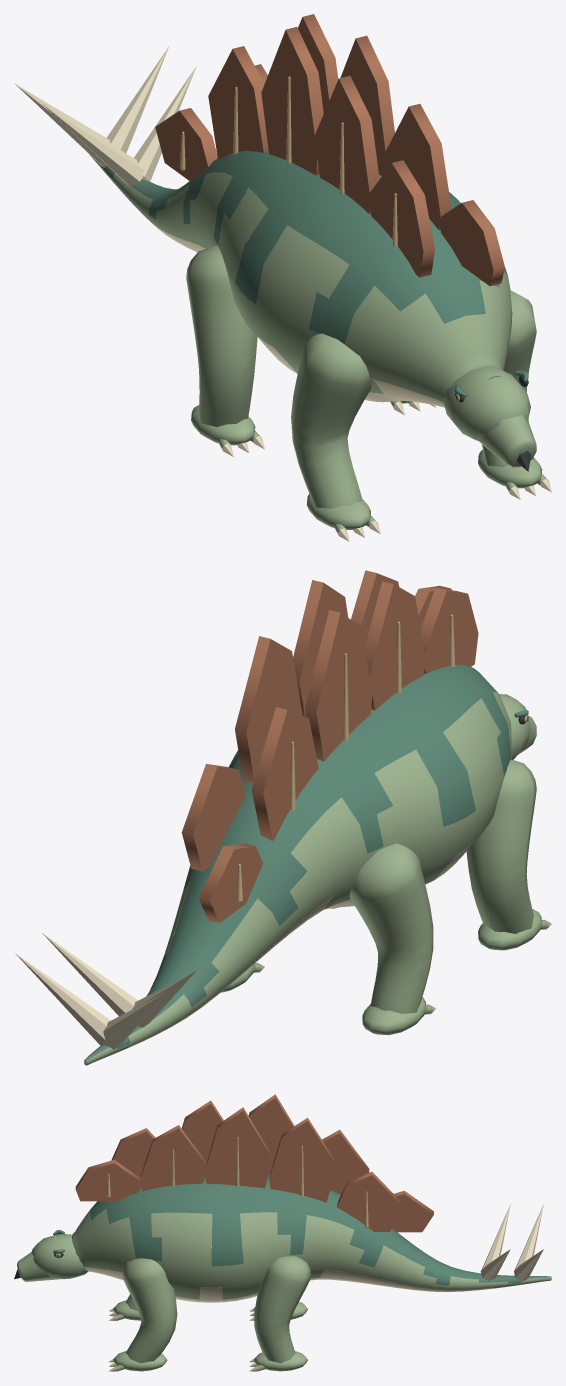
The model's file is primeval-frontier-stegosaurus-db4149fb__1719.glb.
3 views of the same model, one above another, from view 1: azimuth 30°, elevation 25°; view 2: azimuth 150°, elevation 25°; view 3: azimuth 270°, elevation 25° (orthographic). The views are drawn at different scales.
Visible parts, largest first — view 1: stegosaurus; view 2: stegosaurus; view 3: stegosaurus.
Boxes of the visible parts, left/top/right/bottom form: stegosaurus: left=14, top=14, right=551, bottom=541; stegosaurus: left=15, top=570, right=551, bottom=1065; stegosaurus: left=14, top=1094, right=551, bottom=1371.
Bounding box in the file's own units: 1.8 × 2.98 × 6.01.
